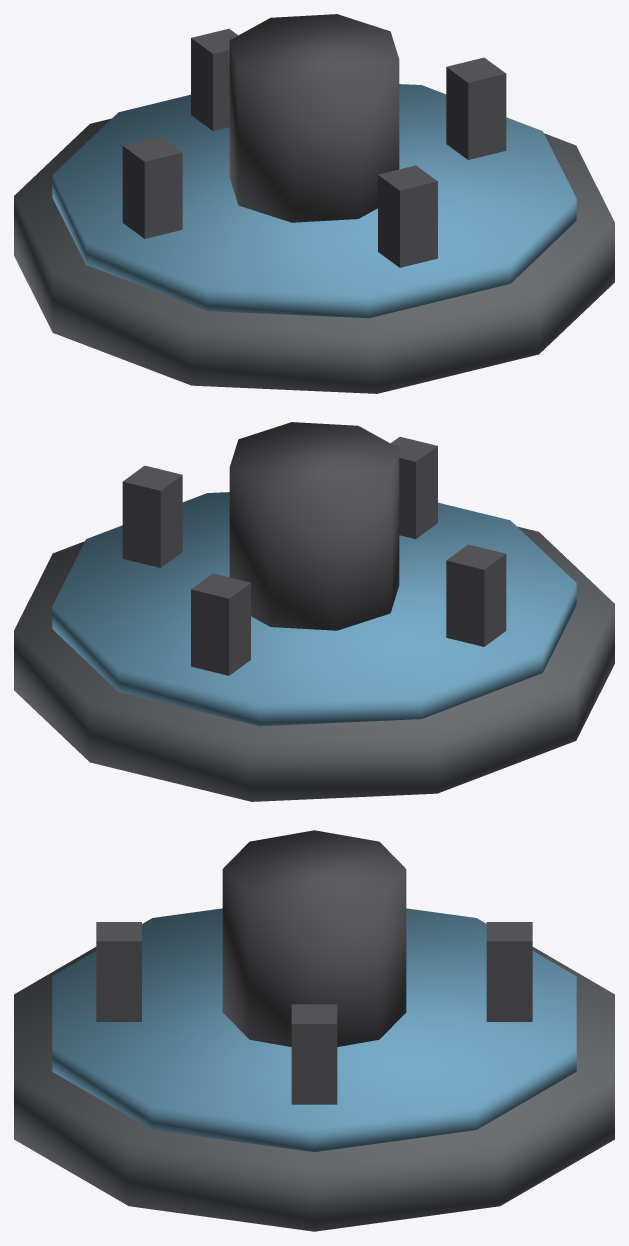
The model's file is pickup_pedestal.glb.
The picture shows the model from 3 angles, top to bottom: view 1: azimuth 30°, elevation 25°; view 2: azimuth 150°, elevation 25°; view 3: azimuth 270°, elevation 25°; orthographic projection. The views are drawn at different scales.
Visible parts, largest first — view 1: pickup_pedestal; view 2: pickup_pedestal; view 3: pickup_pedestal.
Part boxes in pixels (<box>): pickup_pedestal: <box>14,14,614,393</box>; pickup_pedestal: <box>14,422,614,801</box>; pickup_pedestal: <box>14,830,614,1231</box>.
Bounding box in the file's own units: 1.1 × 0.44 × 1.05.
